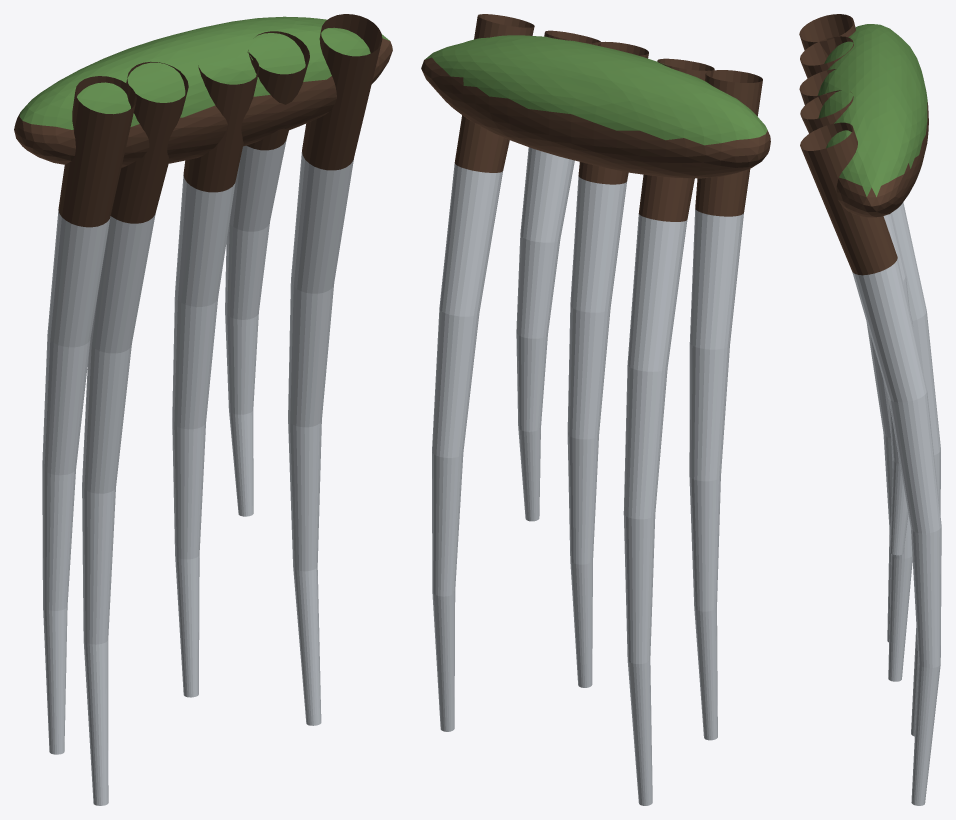
Rendered from HangingRoots.obj.
3 views of the same model, side by side, from view 1: azimuth 30°, elevation 25°; view 2: azimuth 150°, elevation 25°; view 3: azimuth 270°, elevation 25° (orthographic). The views are drawn at different scales.
Size of the model in its own units: 3.03 by 5.99 by 1.11.
